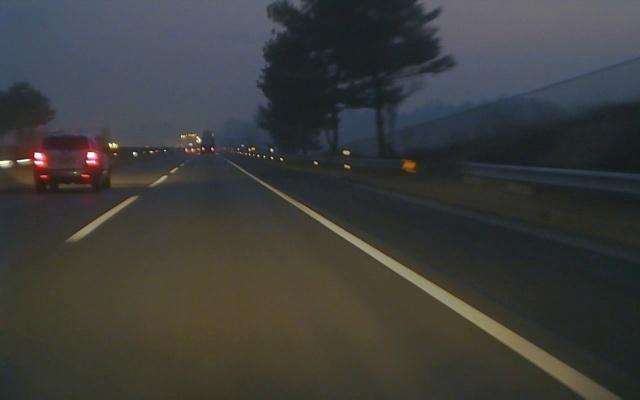lane: (225, 156, 628, 400), (61, 159, 191, 244)
